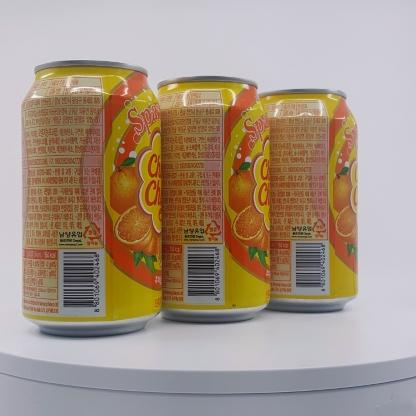----------345ML: (21, 60, 163, 337), (147, 76, 271, 323), (242, 88, 359, 312)
